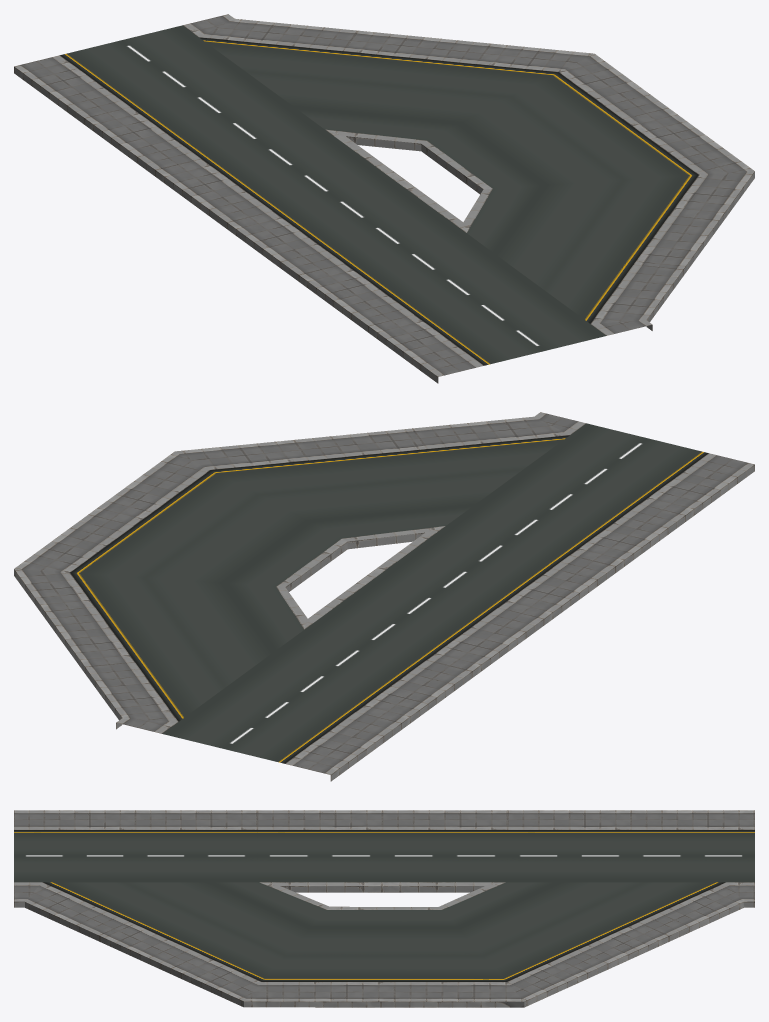
Rendered from Gas_Station_road.fbx.
The picture shows the model from 3 angles, top to bottom: view 1: azimuth 30°, elevation 25°; view 2: azimuth 150°, elevation 25°; view 3: azimuth 270°, elevation 25°; orthographic projection. The views are drawn at different scales.
Parts seen in each view (by area): view 1: polySurface1952; view 2: polySurface1952; view 3: polySurface1952.
Boxes of the visible parts, x1,y1,x2,y2 form: polySurface1952: [14, 14, 754, 383]; polySurface1952: [14, 412, 754, 781]; polySurface1952: [14, 810, 754, 1007].
Bounding box in the file's own units: 21.98 × 0.3565 × 36.
